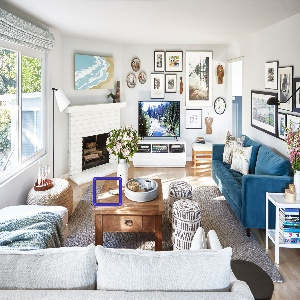square: (91, 174, 124, 208)
